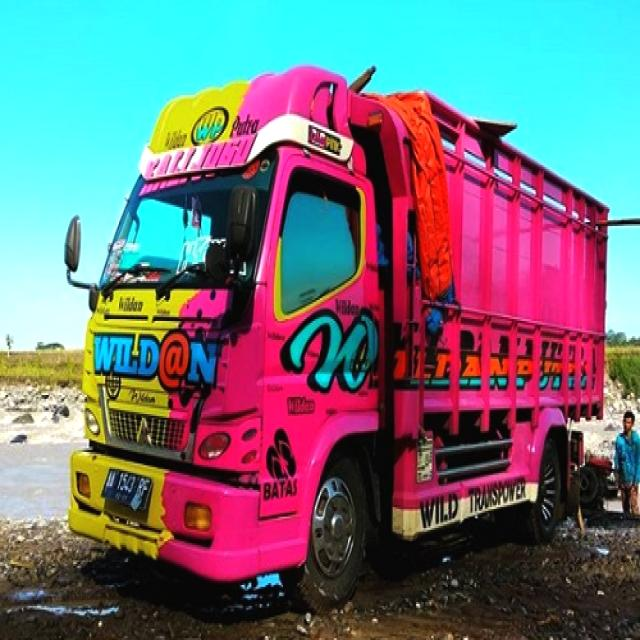truck: (61, 66, 613, 603)
